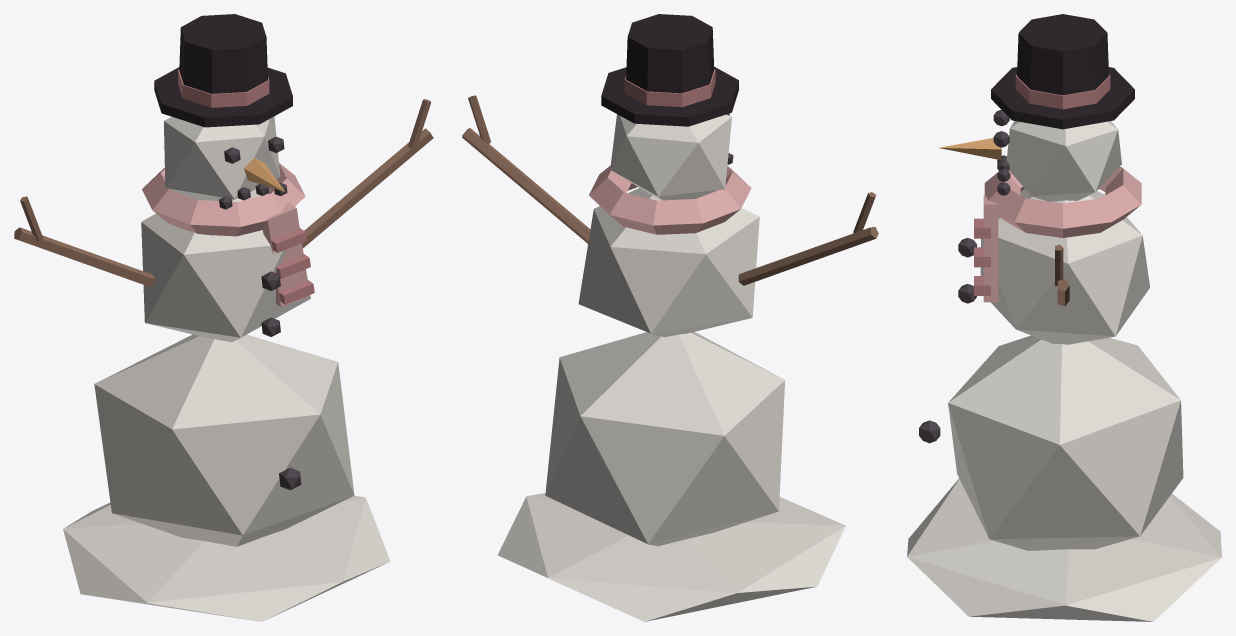
Rendered from sb_snowman.glb.
3 views of the same model, side by side, from view 1: azimuth 30°, elevation 25°; view 2: azimuth 150°, elevation 25°; view 3: azimuth 270°, elevation 25° (orthographic).
Visible parts, largest first — view 1: snowman; view 2: snowman; view 3: snowman.
Boxes of the visible parts, bbox=[...] form: snowman: bbox=[14, 14, 433, 621]; snowman: bbox=[462, 14, 878, 621]; snowman: bbox=[907, 14, 1221, 621].
Bounding box in the file's own units: 1.14 × 1.41 × 0.7438.
